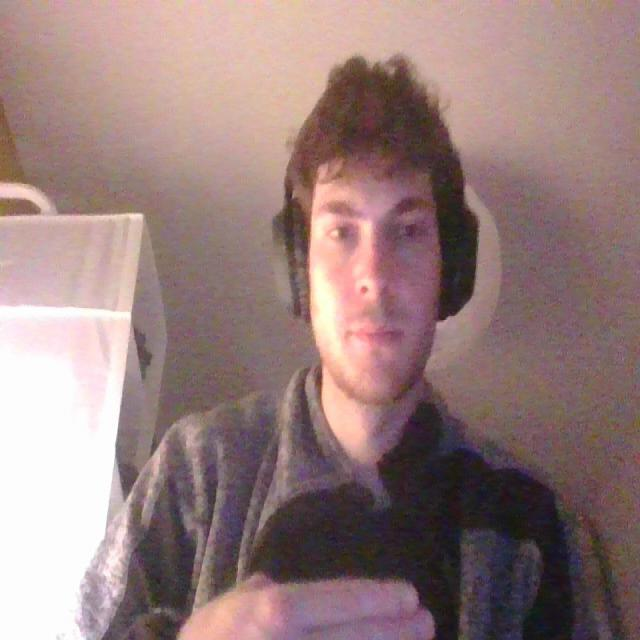right: (166, 561, 442, 639)
